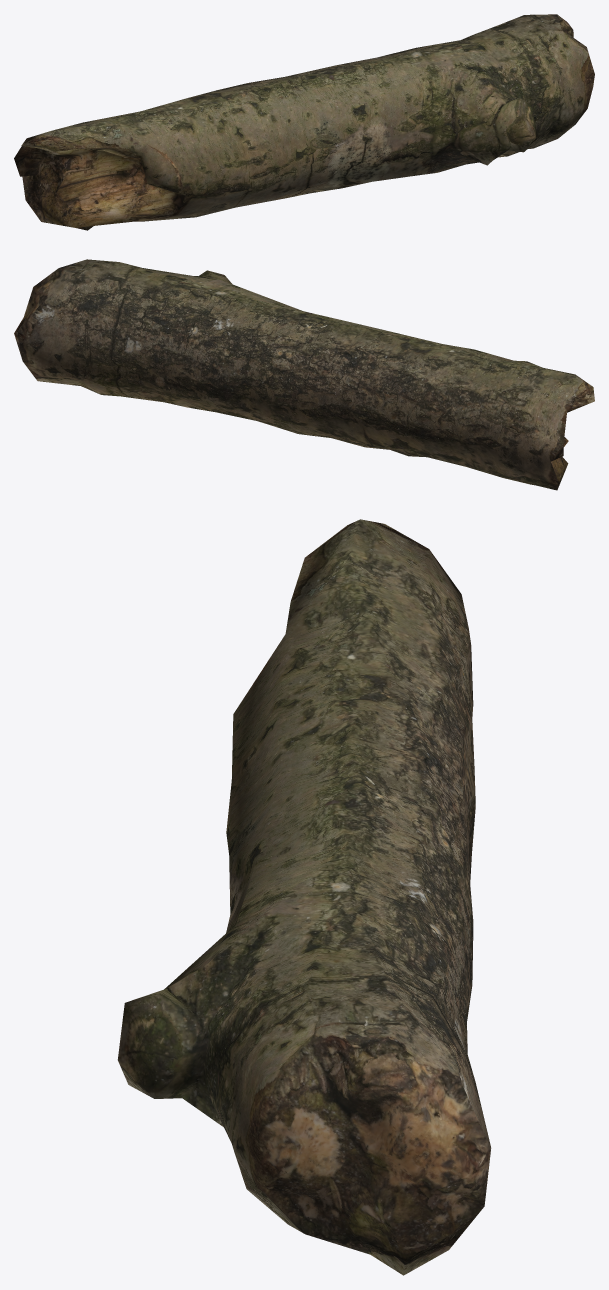
Rendered from 3DStick001_LQ-2K-JPG.obj.
3 renders of one model, top to bottom at view 1: azimuth 30°, elevation 25°; view 2: azimuth 150°, elevation 25°; view 3: azimuth 270°, elevation 25°, orthographic. The views are drawn at different scales.
Visible parts, largest first — view 1: 3DStick001_LQ-2K-JPG; view 2: 3DStick001_LQ-2K-JPG; view 3: 3DStick001_LQ-2K-JPG.
Boxes of the visible parts, x1,y1,x2,y2 form: 3DStick001_LQ-2K-JPG: (14, 14, 594, 230); 3DStick001_LQ-2K-JPG: (14, 259, 594, 490); 3DStick001_LQ-2K-JPG: (117, 519, 491, 1275).
Size of the model in its own units: 0.128 by 0.0277 by 0.0371.
Materials: 1 (1 with a texture image).
